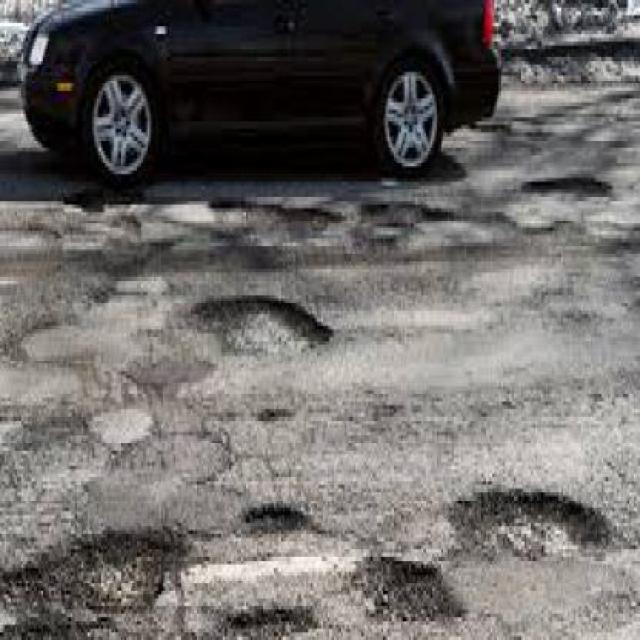pothole: (438, 477, 636, 560), (180, 284, 334, 359)
